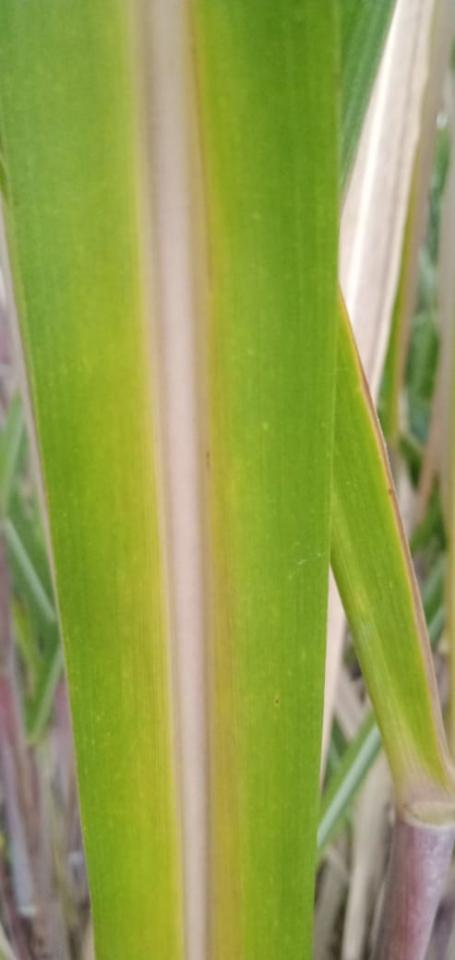Healthy: (0, 0, 340, 959)
